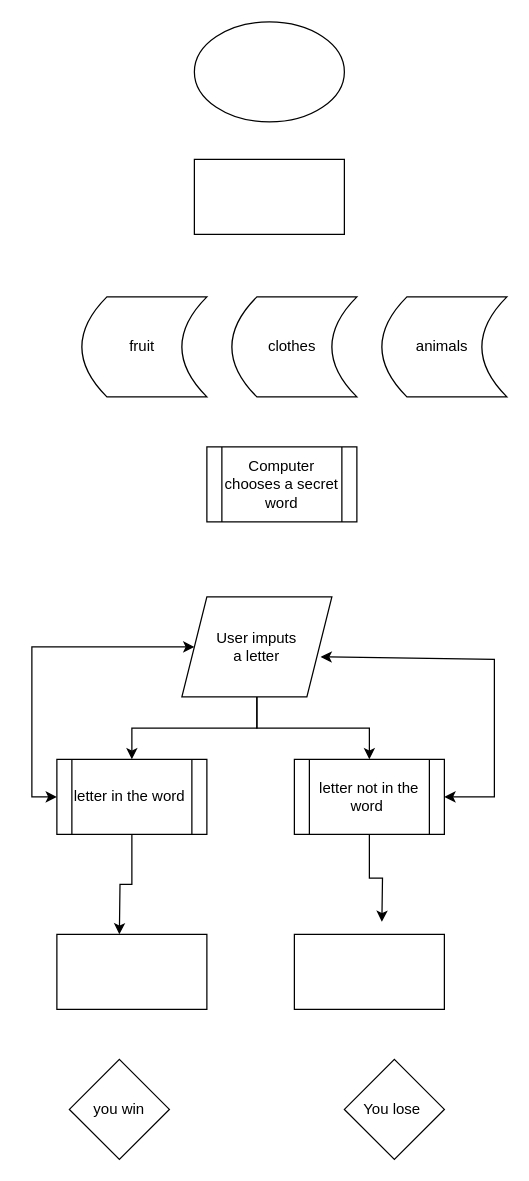
This 529x1181 diagram has some shape labels left out. The centre of each missing label's shape, as x and y in pixels:
"All attempts are used before the whole word displays" goes at (368,971).
"all the letters are guessed correctly" goes at (131,971).
"choose one of the 3 categories" goes at (268,196).
"Start" goes at (268,71).
